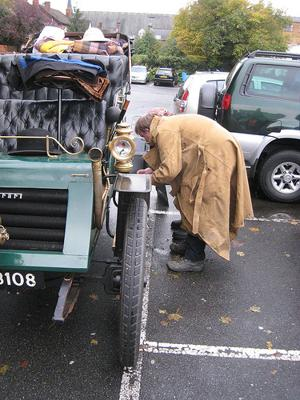person: (135, 106, 257, 274)
